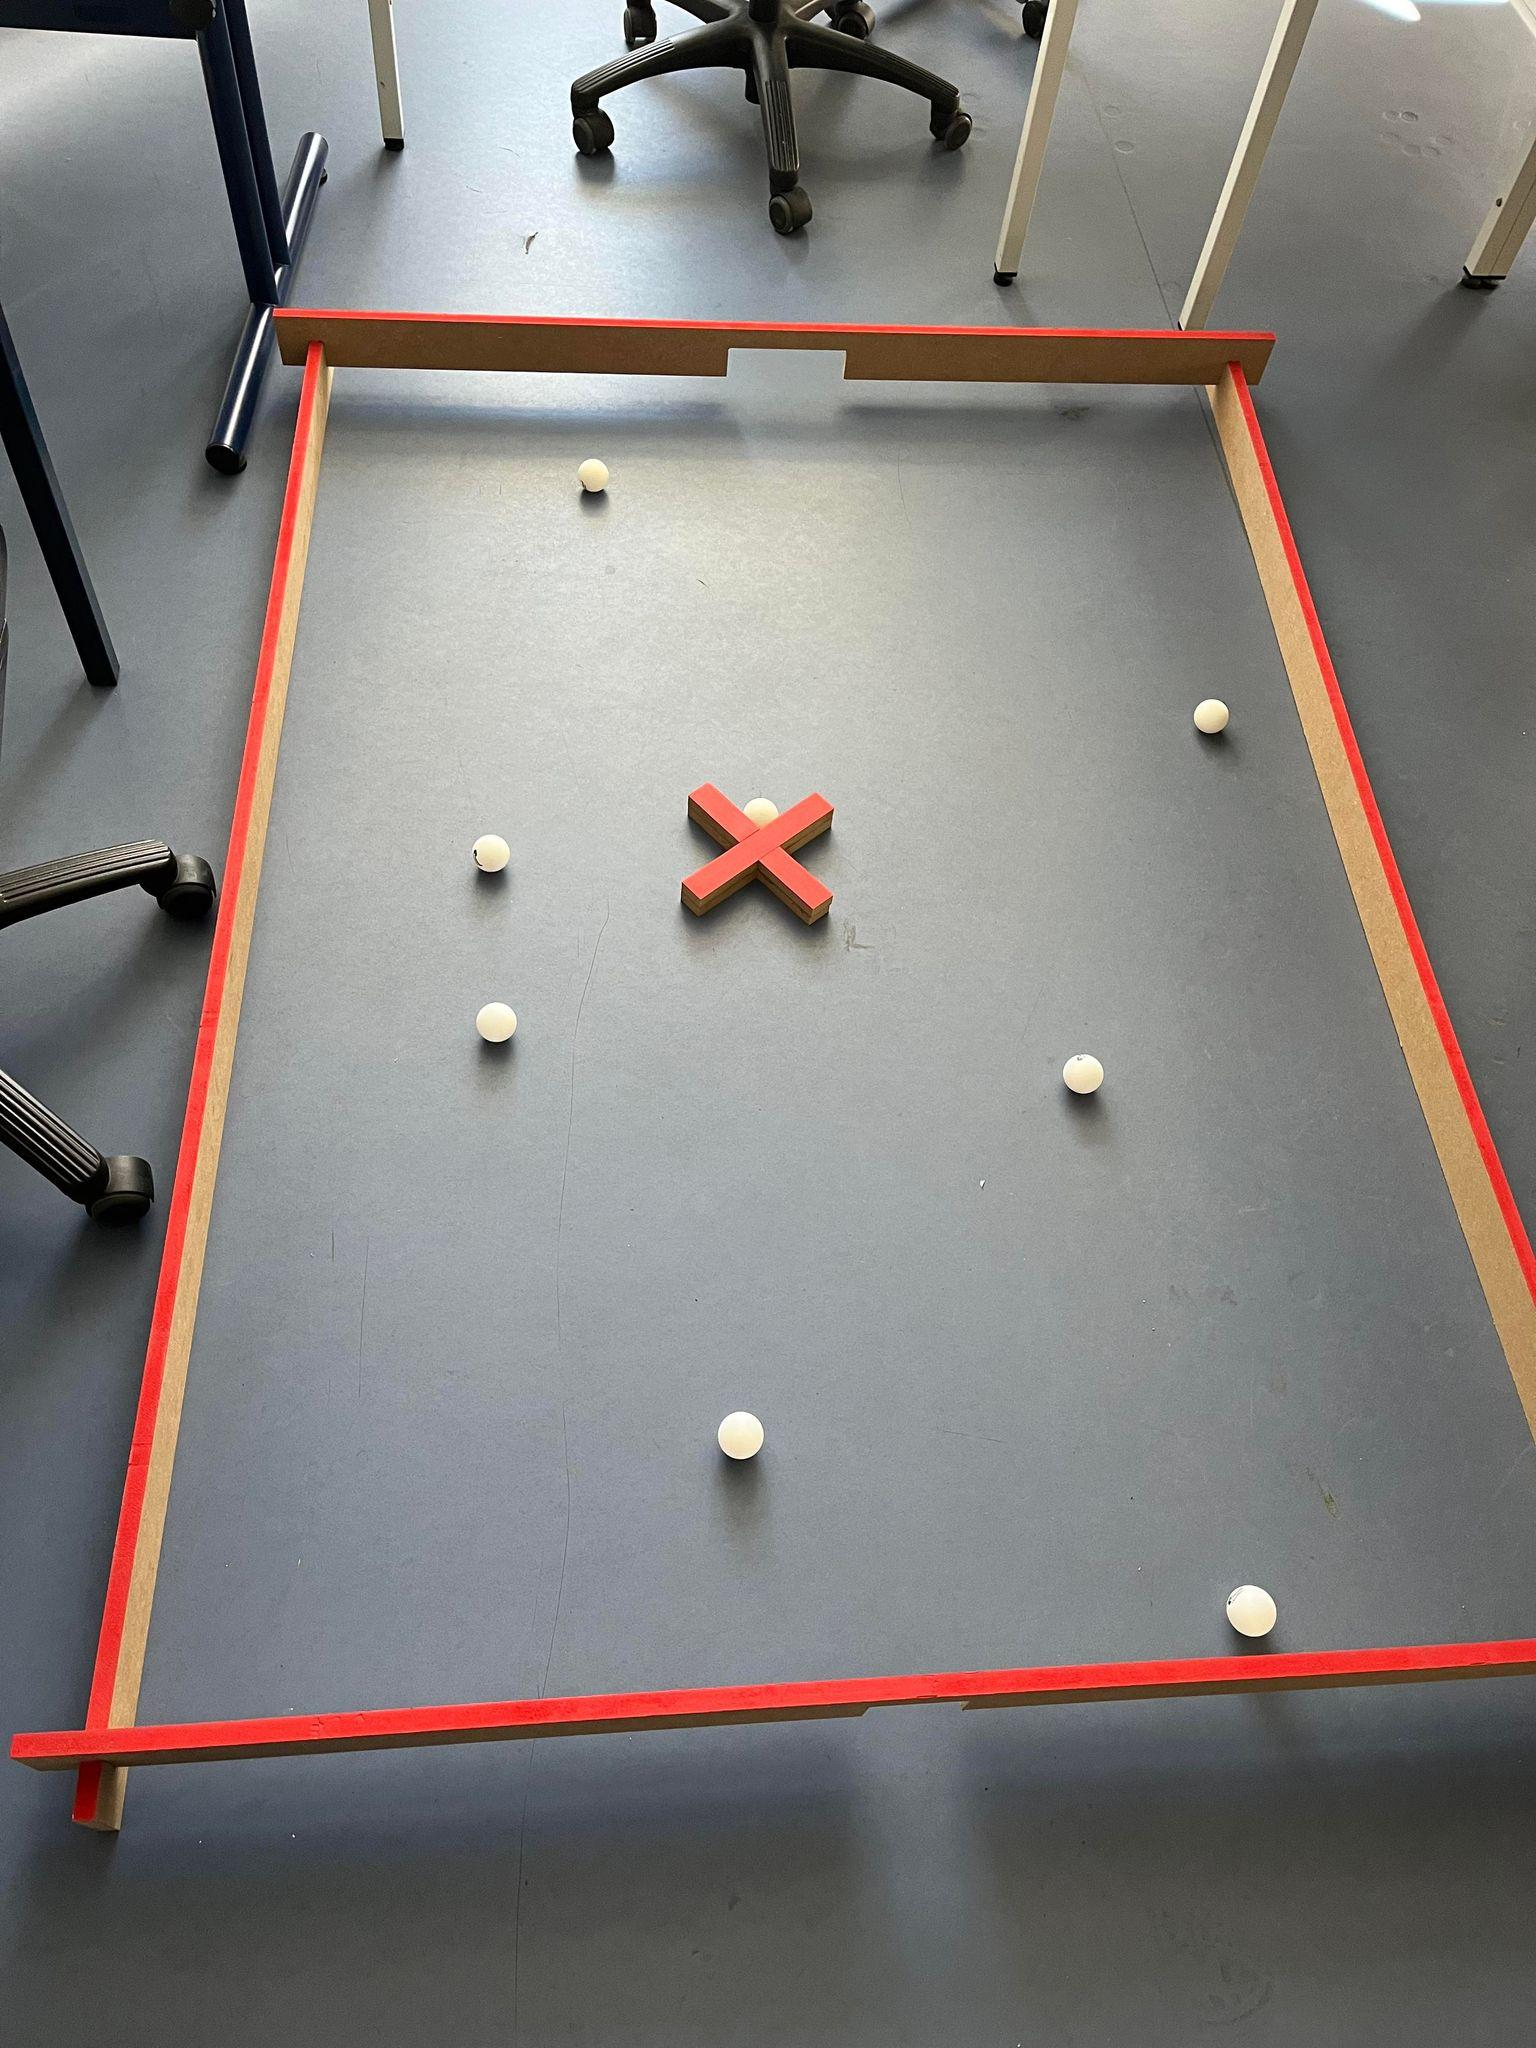white: (1220, 1582, 1284, 1642), (713, 1401, 766, 1469), (1060, 1051, 1110, 1097), (471, 1000, 516, 1048), (470, 829, 511, 874), (1192, 697, 1231, 735), (576, 456, 611, 497), (744, 795, 784, 829)
